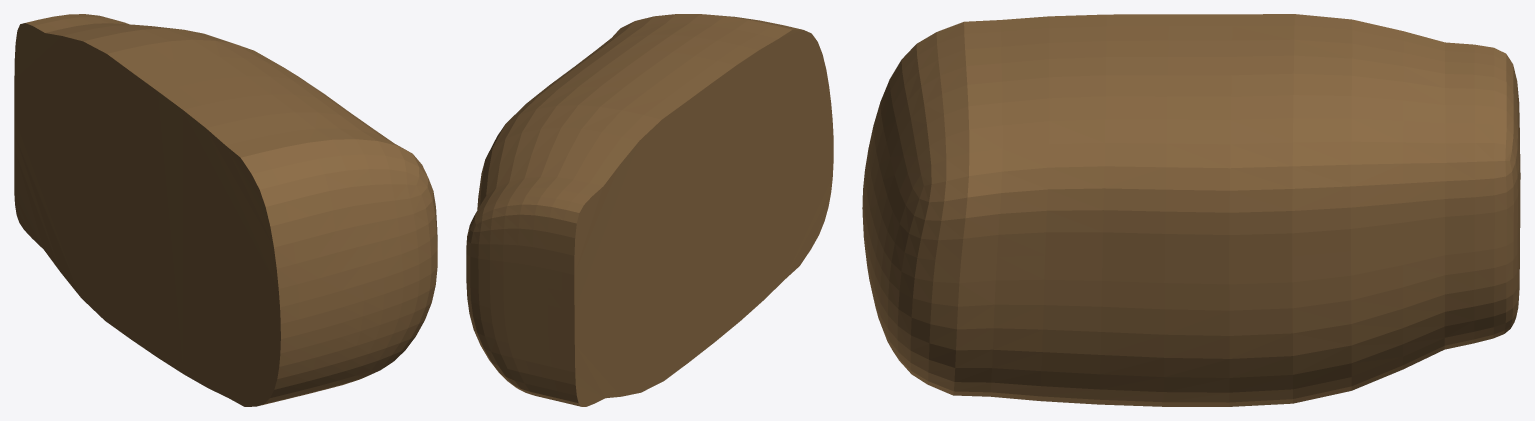
Rendered from RSCsegment_joint_visu.dae.
3 views of the same model, side by side, from view 1: azimuth 30°, elevation 25°; view 2: azimuth 150°, elevation 25°; view 3: azimuth 270°, elevation 25° (orthographic). The views are drawn at different scales.
Parts seen in each view (by area): view 1: node; view 2: node; view 3: node.
Part boxes in pixels (x1,y1,x2,y2): node: (14,14,437,406); node: (466,14,833,406); node: (862,14,1520,406).
Size of the model in its own units: 0.0891 by 0.1184 by 0.214.
